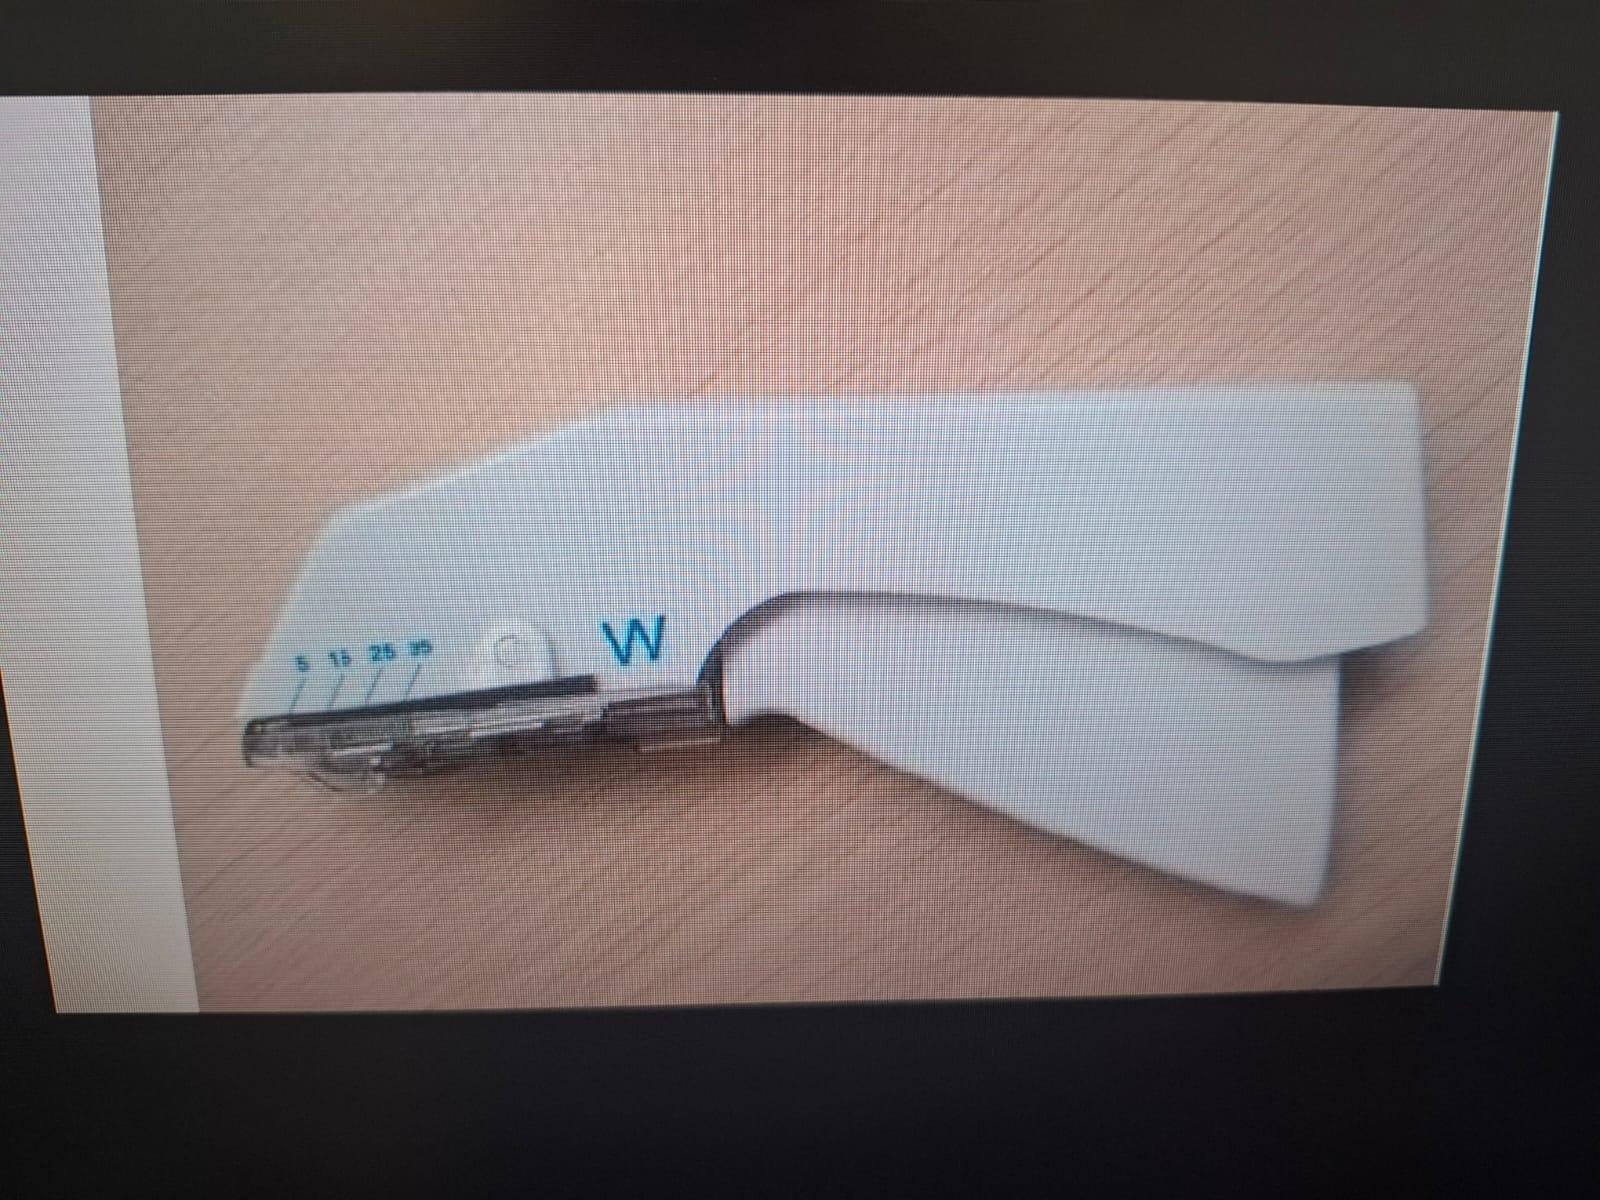Skin Stapler: (222, 371, 1456, 914)
